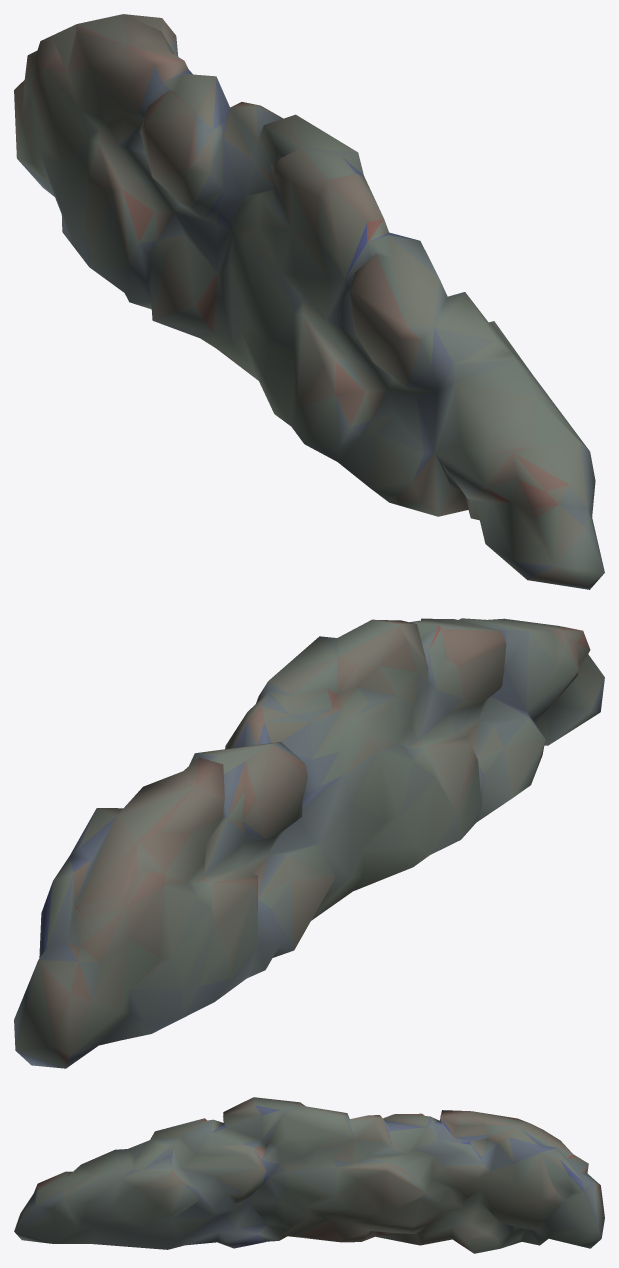
The model's file is rock_wall_small_01.fbx.
The picture shows the model from 3 angles, top to bottom: view 1: azimuth 30°, elevation 25°; view 2: azimuth 150°, elevation 25°; view 3: azimuth 270°, elevation 25°; orthographic projection. The views are drawn at different scales.
Parts seen in each view (by area): view 1: Rock_Wall_01; view 2: Rock_Wall_01; view 3: Rock_Wall_01.
Part boxes in pixels (x1,y1,x2,y2): Rock_Wall_01: [14, 14, 604, 589]; Rock_Wall_01: [14, 618, 604, 1068]; Rock_Wall_01: [14, 1097, 604, 1253].
Bounding box in the file's own units: 68.33 × 122 × 474.
